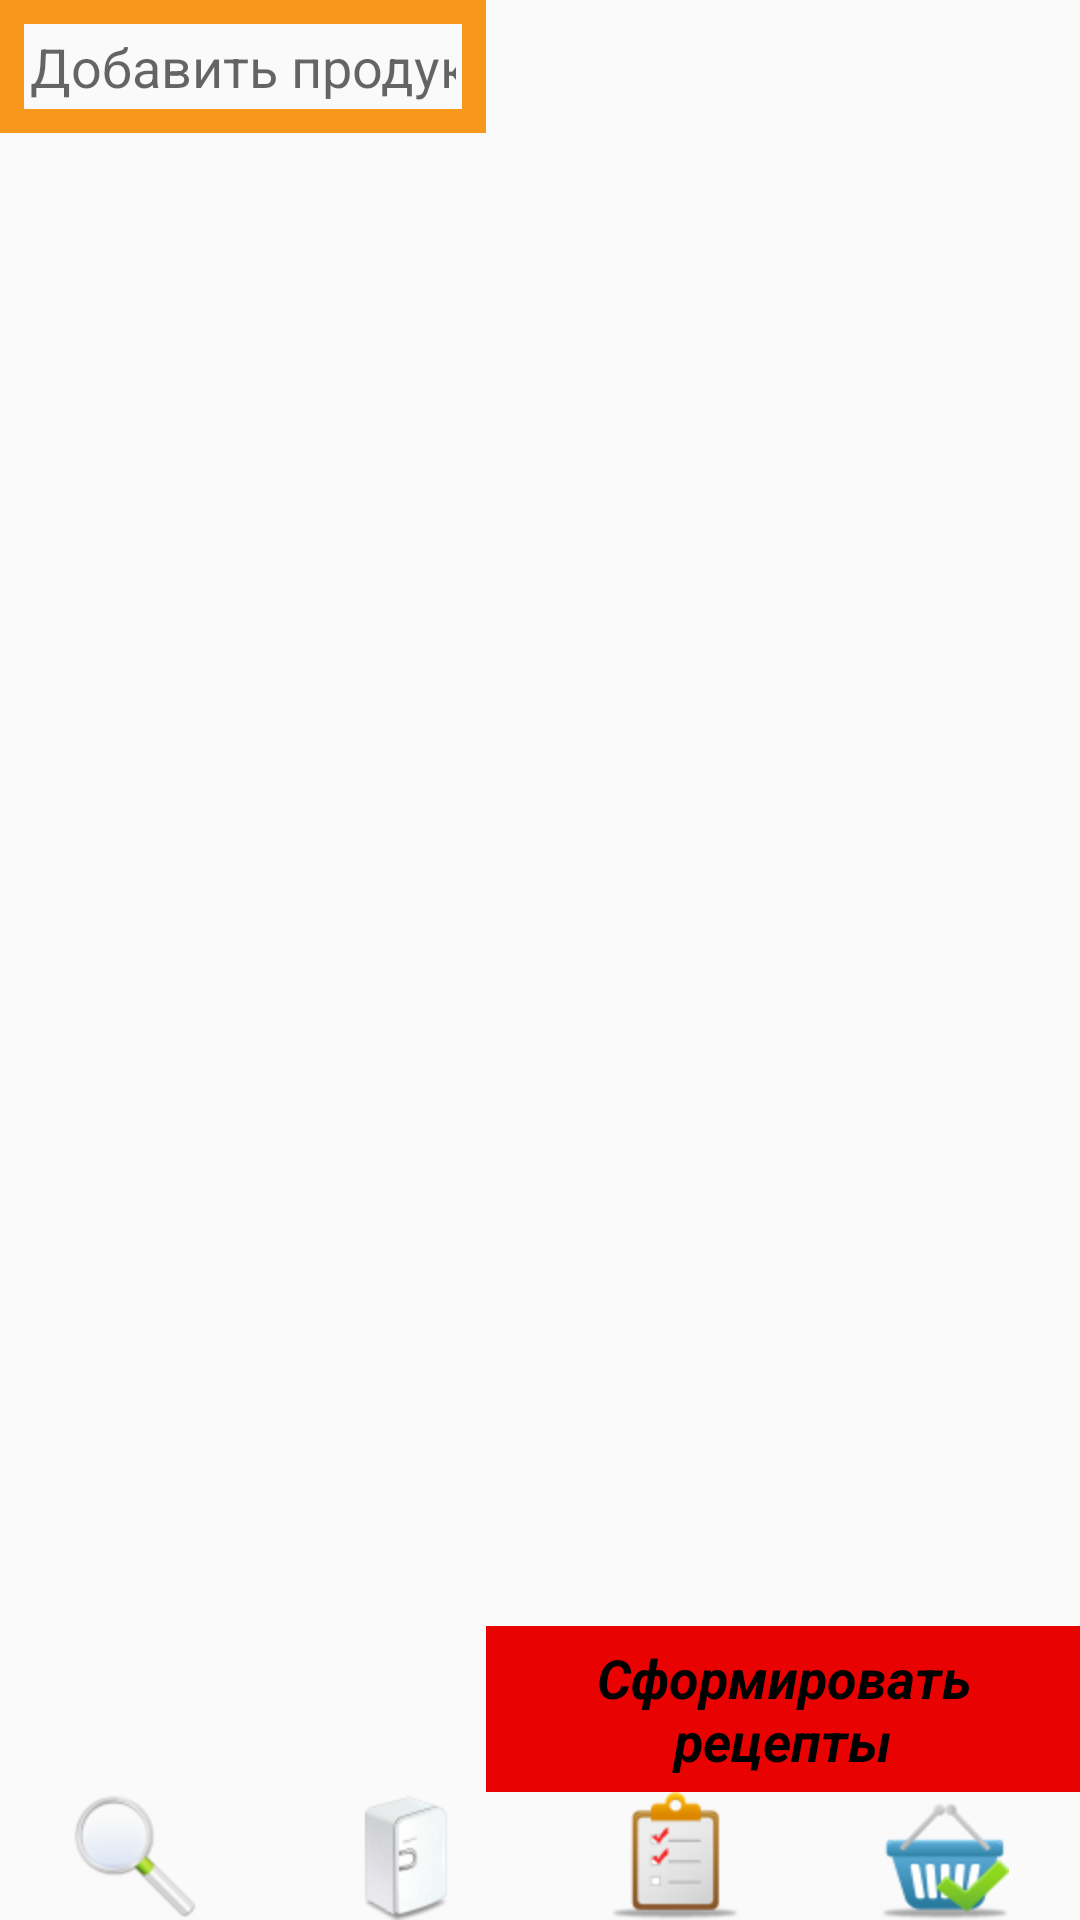

Icon click points for this 1080 × 1920 phone screenshot, format [x,y]:
basket: [947,1861]
fridge: [404,1862]
list: [675,1855]
search: [135,1856]
